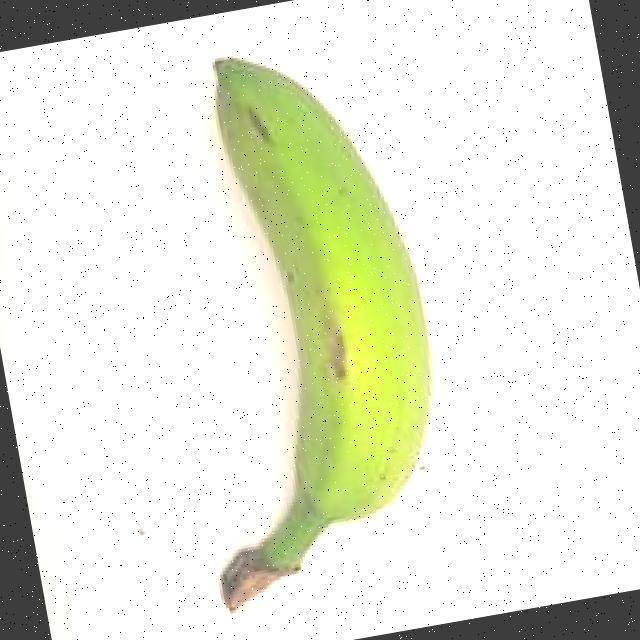Unripe: (100, 2, 498, 640)
